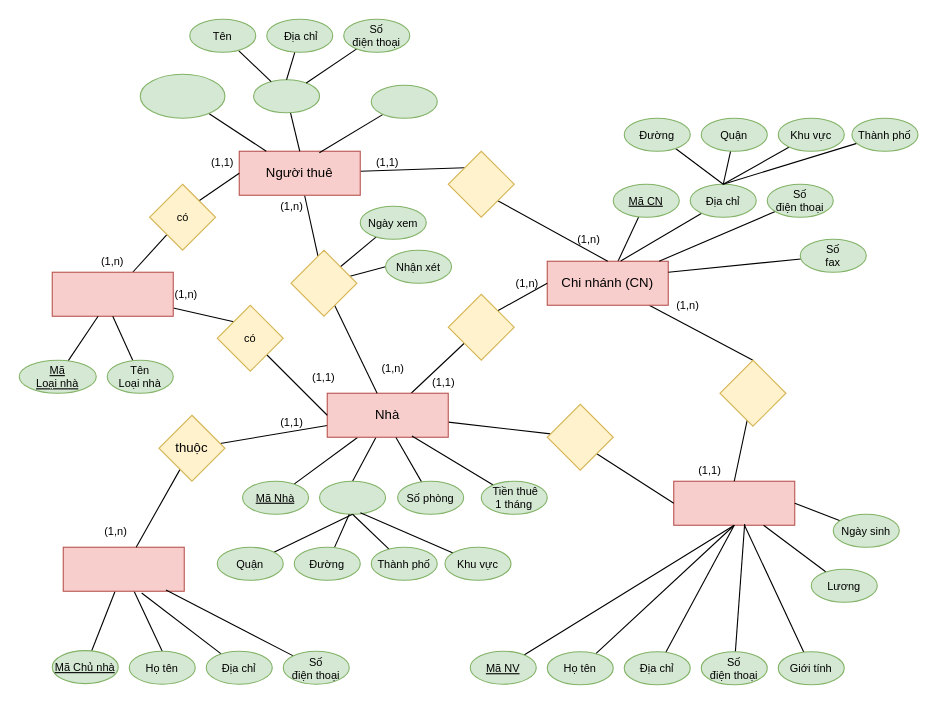
Image size: 937x704. Some labels were removed from this diagram. Here are the shapes that lost their labels. From the top down, the centre of each, then its label:
the point at 182,95: Mã Người thuê
the point at 286,96: Thông tin liên lạc
the point at 403,101: Khả năng thuê
the point at 480,183: được quản lý
the point at 112,293: Loại nhà
the point at 323,282: xem
the point at 480,326: có thông tin
the point at 752,392: làm việc tại
the point at 579,436: được phụ trách
the point at 352,497: Thông tin định vị
the point at 734,502: Nhân viên (NV)
the point at 123,568: Chủ nhà
